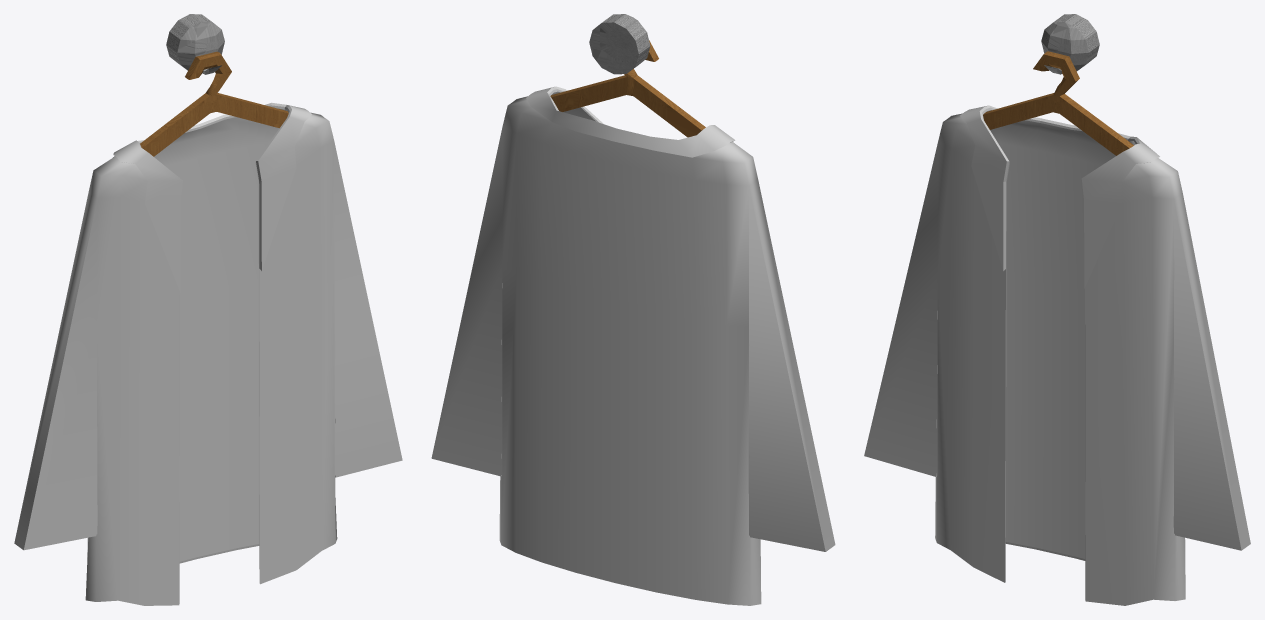
File: CoatWithHanger.fbx
The picture shows the model from 3 angles, left to right: view 1: azimuth 30°, elevation 25°; view 2: azimuth 150°, elevation 25°; view 3: azimuth 330°, elevation 25°; orthographic projection. The views are drawn at different scales.
Visible parts, largest first — view 1: pCylinder1, pTorus1, pSphere3; view 2: pCylinder1, pTorus1, pSphere3; view 3: pCylinder1, pTorus1, pSphere3.
Part boxes in pixels (box(x1,y1,x2,y2)): pCylinder1: box(14, 102, 402, 605); pTorus1: box(140, 51, 288, 156); pSphere3: box(166, 14, 224, 74); pCylinder1: box(431, 86, 835, 605); pTorus1: box(550, 40, 705, 137); pSphere3: box(589, 14, 650, 74); pCylinder1: box(864, 105, 1250, 605); pTorus1: box(983, 51, 1133, 155); pSphere3: box(1041, 14, 1099, 74).
Size of the model in its own units: 5.04 by 7.11 by 0.7322.
